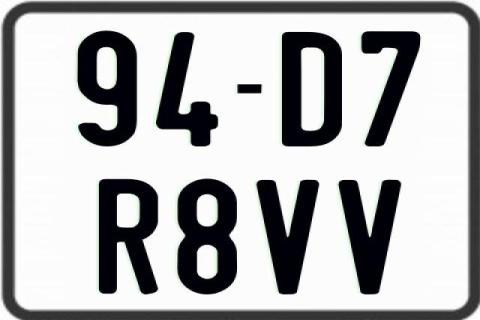0: (154, 32, 220, 149), (77, 30, 143, 146), (360, 31, 420, 151), (177, 176, 238, 294)
D: (279, 32, 341, 147)
R: (97, 179, 158, 296)
V: (254, 178, 320, 294), (337, 180, 402, 294)
